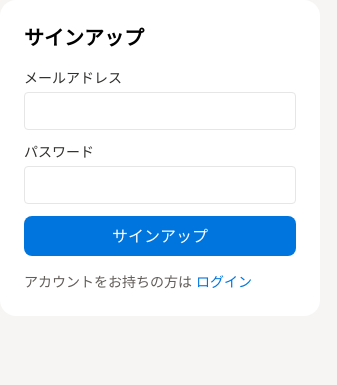
Test: Signup › メール重複エラー時に専用メッセージを表示する
This screenshot has width=337, height=385.
Type "a@example.com" into the field labelled "メールアドレス". click: (160, 111)
box: [24,92,296,130]
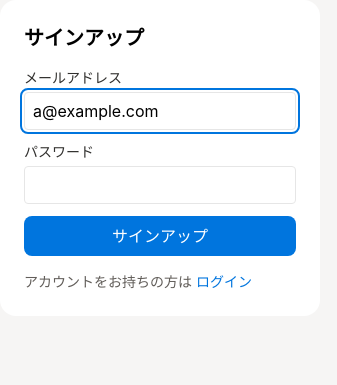
Type "password1" into the password field labelled "パスワード". click: (160, 185)
box: [24,166,296,204]
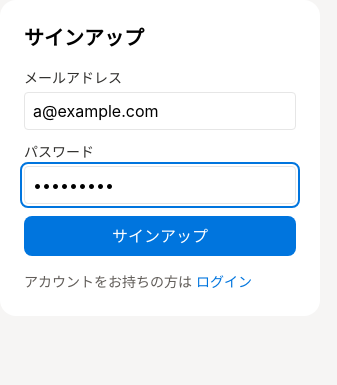
Click the button "サインアップ". click: click(160, 236)
box: [24,216,296,256]
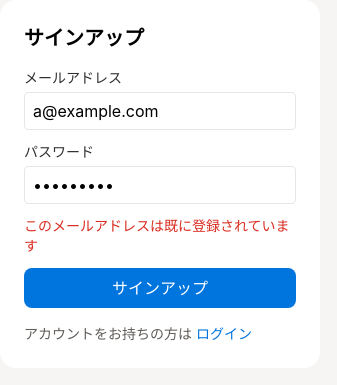
Result: the text "このメールアドレスは既に登録されています" is shown at [24,216,296,256]
